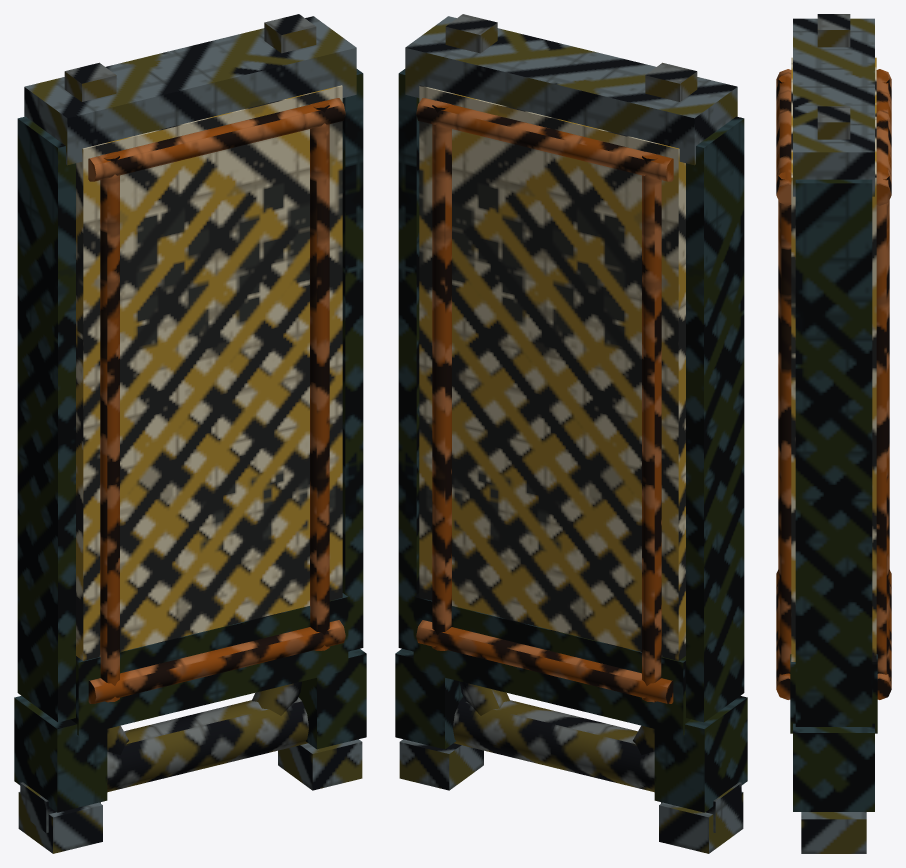
The model's file is radiator_panel.glb.
3 views of the same model, side by side, from view 1: azimuth 30°, elevation 25°; view 2: azimuth 150°, elevation 25°; view 3: azimuth 270°, elevation 25° (orthographic). The views are drawn at different scales.
Parts seen in each view (by area): view 1: merged-cfc7ae, merged-263c43, merged-a56233, merged-5d6a72, merged-646a6c; view 2: merged-cfc7ae, merged-263c43, merged-a56233, merged-5d6a72, merged-646a6c; view 3: merged-263c43, merged-a56233, merged-5d6a72, merged-cfc7ae, merged-646a6c.
Boxes of the visible parts, x1,y1,x2,y2 form: merged-cfc7ae: (76,85,342,660); merged-263c43: (14,69,366,812); merged-a56233: (88,98,345,703); merged-5d6a72: (18,16,362,853); merged-646a6c: (64,14,316,792); merged-cfc7ae: (419,85,685,660); merged-263c43: (395,69,747,812); merged-a56233: (416,98,673,703); merged-5d6a72: (399,16,743,853); merged-646a6c: (445,14,697,792); merged-263c43: (790,179,877,811); merged-a56233: (776,69,891,699); merged-5d6a72: (793,18,874,853); merged-cfc7ae: (791,57,876,661); merged-646a6c: (817,14,850,139).
Size of the model in its own units: 3.12 by 7.23 by 1.06.
Materials: 6 (6 with a texture image).
